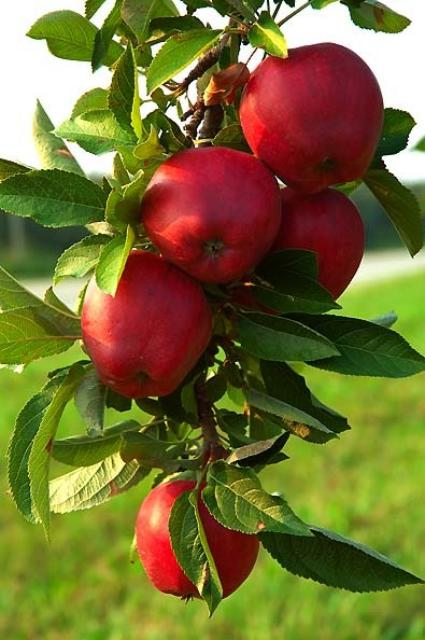Apple: (240, 42, 384, 193), (81, 250, 212, 398), (141, 146, 282, 283), (136, 480, 259, 607), (272, 188, 365, 298)
